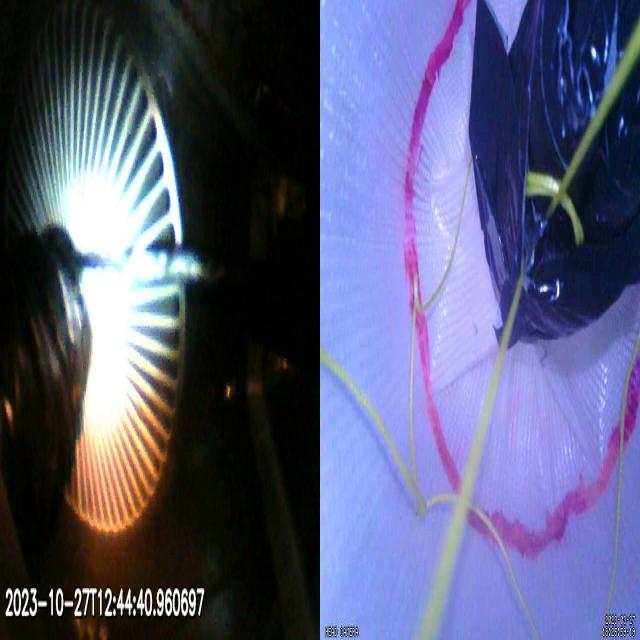red-circle: (403, 0, 640, 557)
